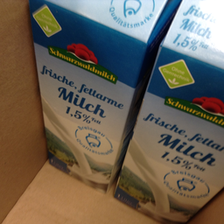milk: (28, 1, 165, 194), (110, 2, 224, 221)
